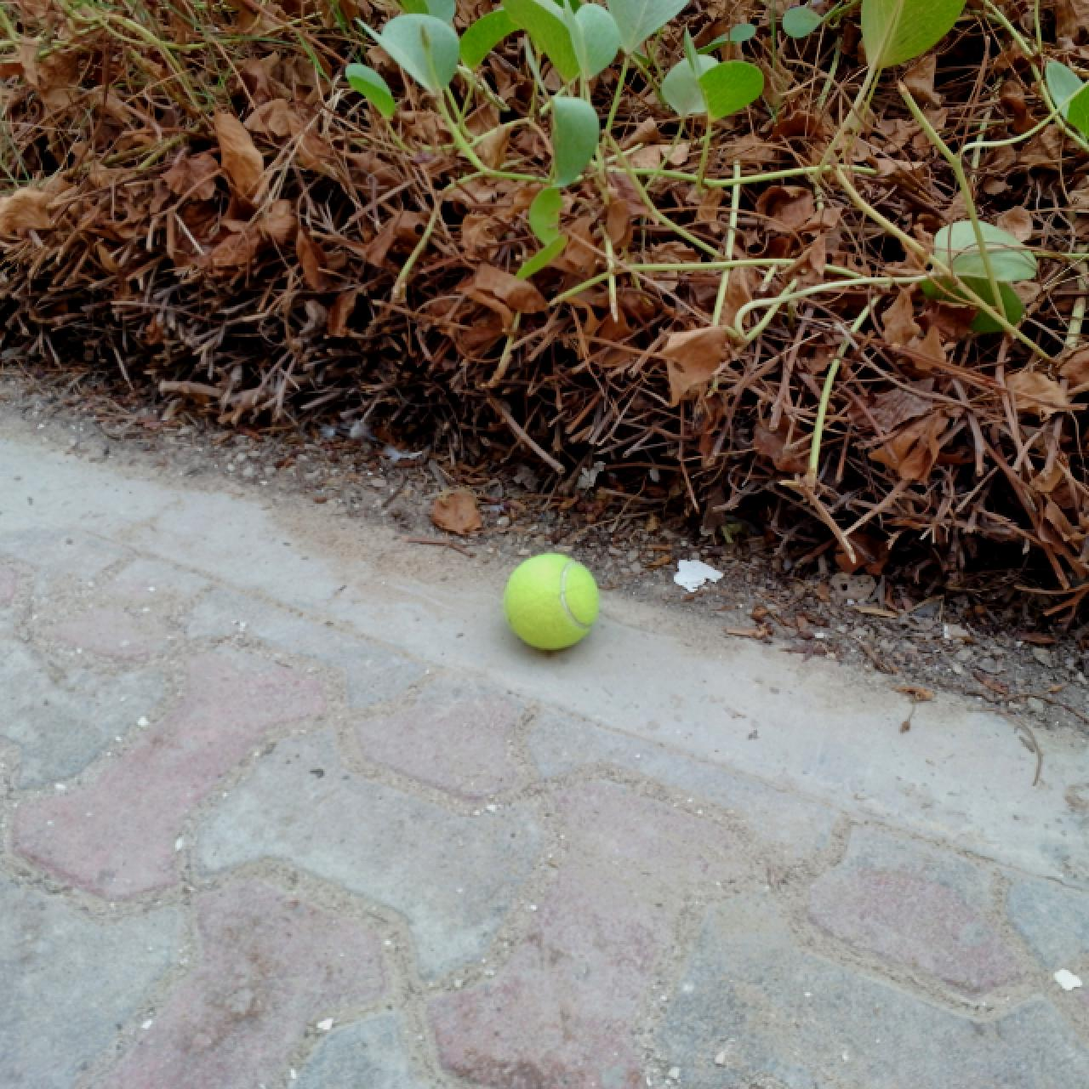tennis-ball: (503, 554, 597, 654)
